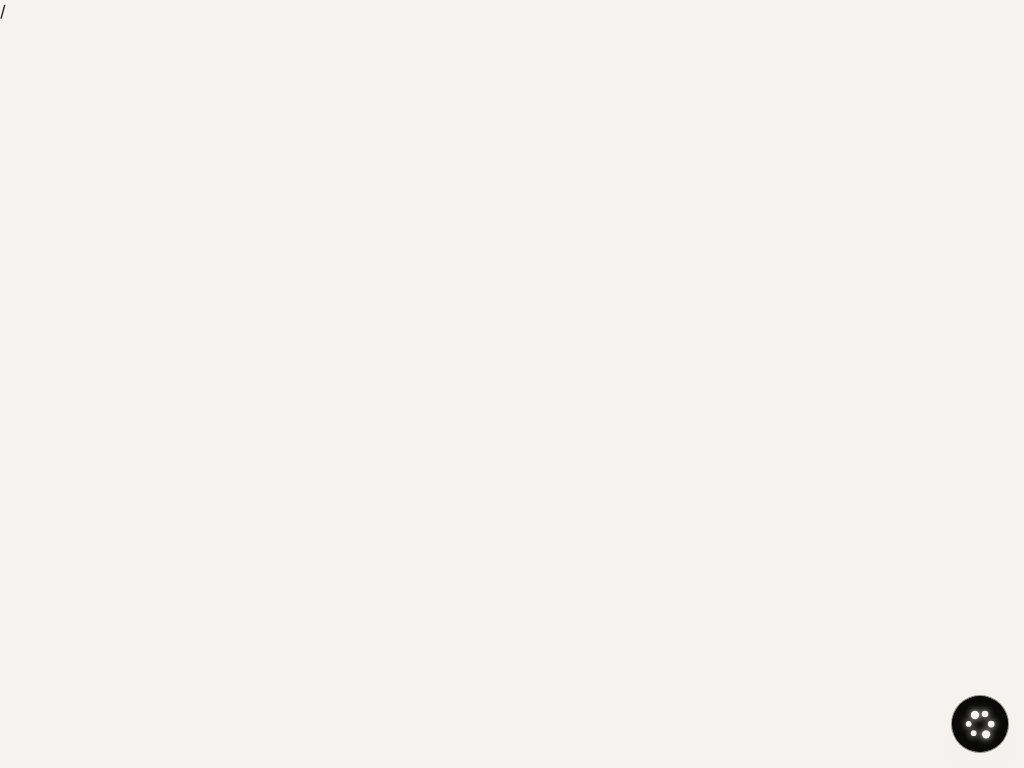
Test: Asistente › con dictado disponible, lo que se dicta va al campo de texto
Click the button named "Abrir el asistente" at (980, 724), box [952,696,1008,752]
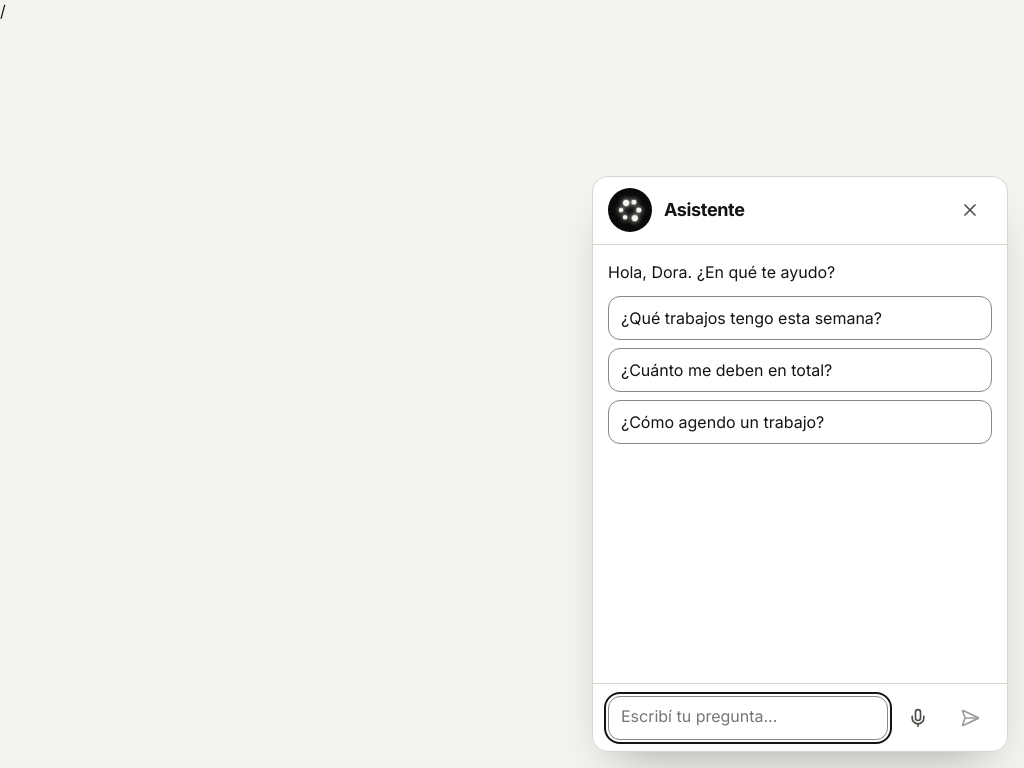
Click the button named "Dictar con la voz" at (918, 718), box [896,696,940,740]
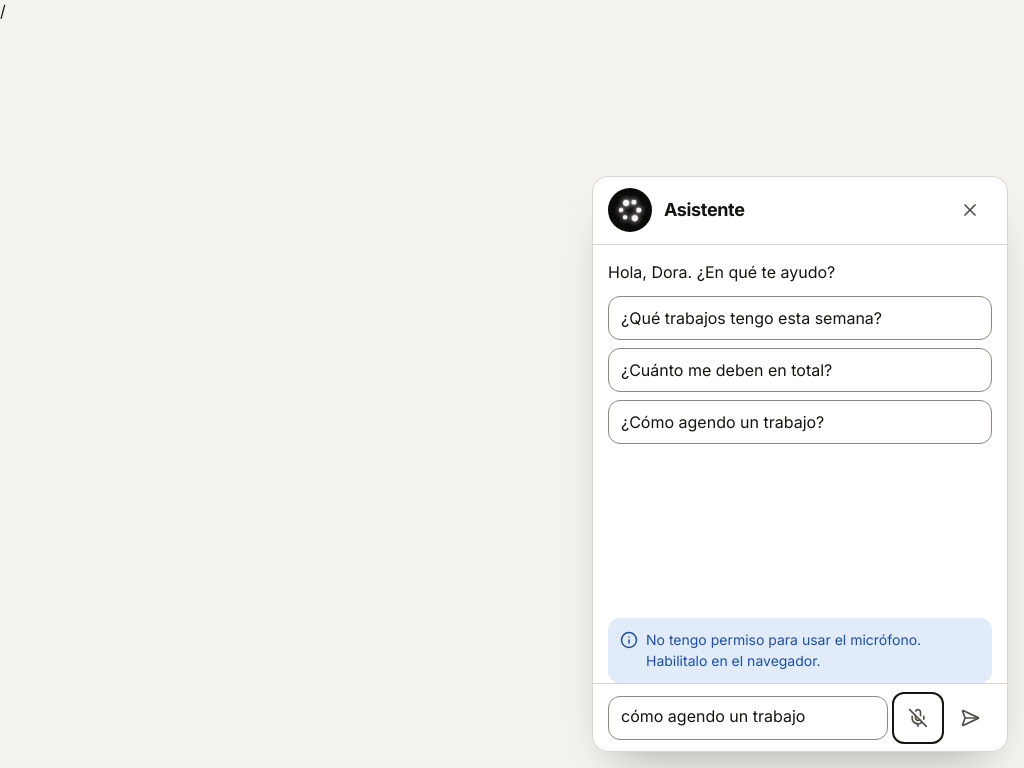
Expected: the text box named "Escribile al asistente" holds "cómo agendo un trabajo", [608,696,888,740]
Expected: the text "permiso para usar el micrófono" is shown, [646,631,921,669]
